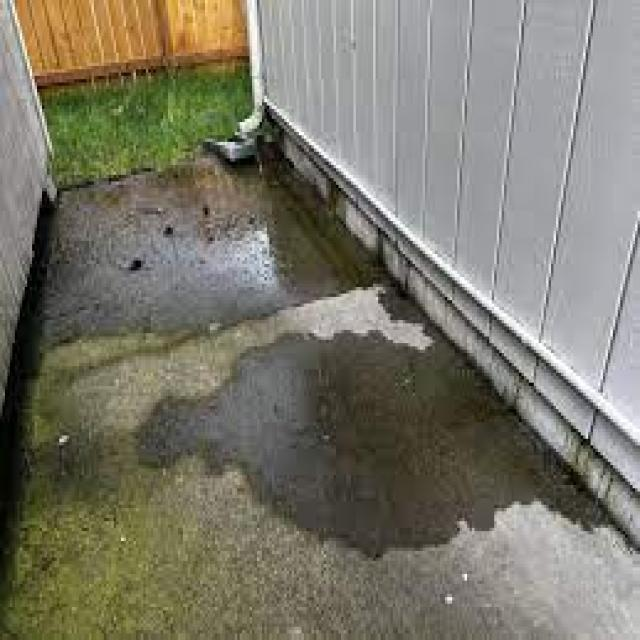water accumulation: (24, 158, 621, 560)
